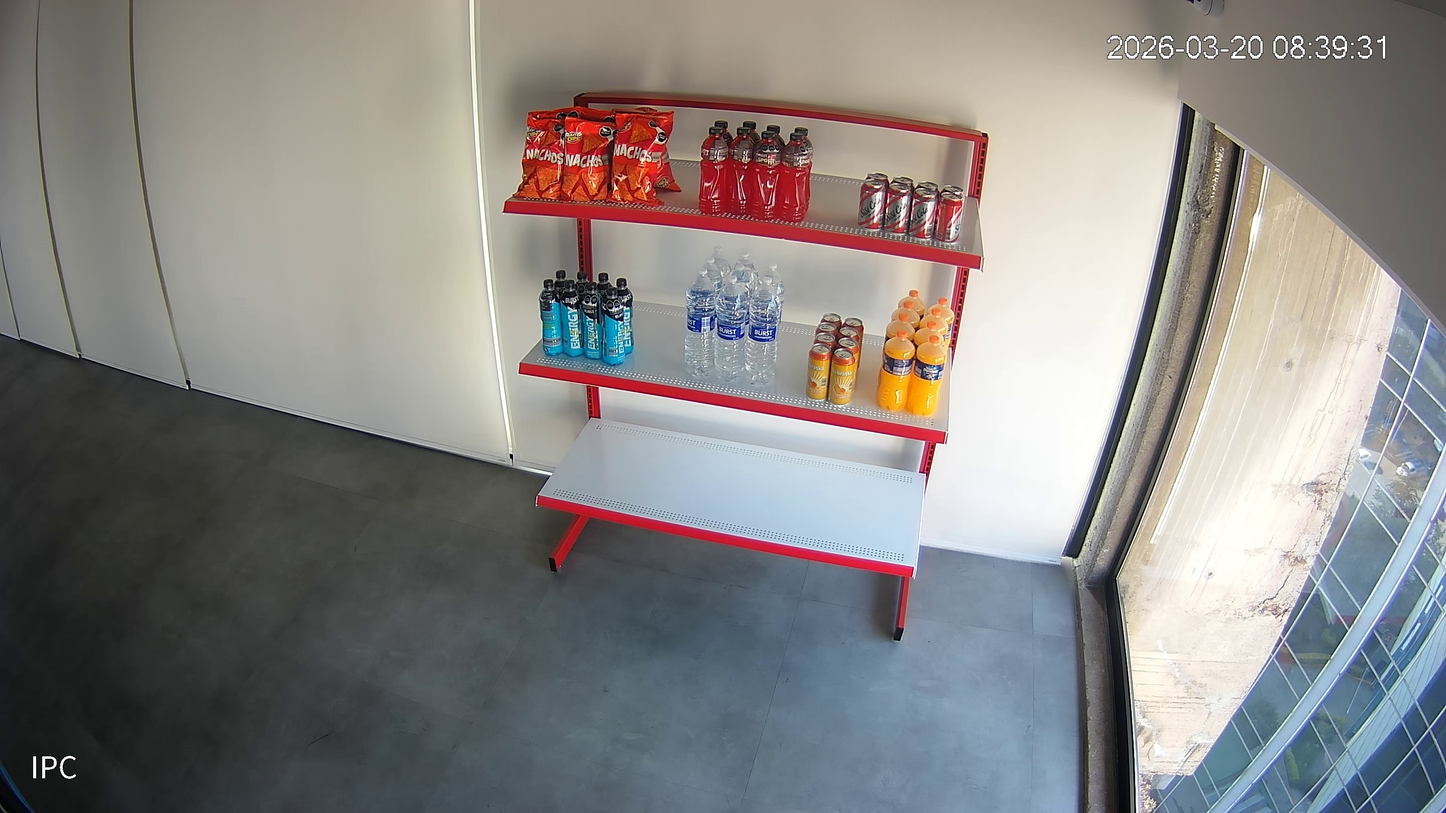agua_burst: (745, 277, 781, 384), (734, 252, 761, 290), (702, 257, 723, 297)
burst_energetica_roja: (749, 131, 785, 220), (699, 126, 729, 215), (795, 126, 813, 212)
burst_energy: (581, 281, 604, 360), (539, 278, 562, 356), (616, 278, 634, 355)
nachos_naturasol: (607, 108, 674, 207), (561, 117, 617, 201), (528, 106, 582, 119)
nebraska_mango: (813, 333, 837, 355), (838, 327, 859, 347), (820, 313, 842, 332)
sisi_cola: (857, 179, 887, 230), (934, 193, 963, 242), (914, 181, 939, 200)
sun_paradise_naranja: (878, 330, 915, 411), (914, 321, 943, 352), (891, 301, 920, 331)
